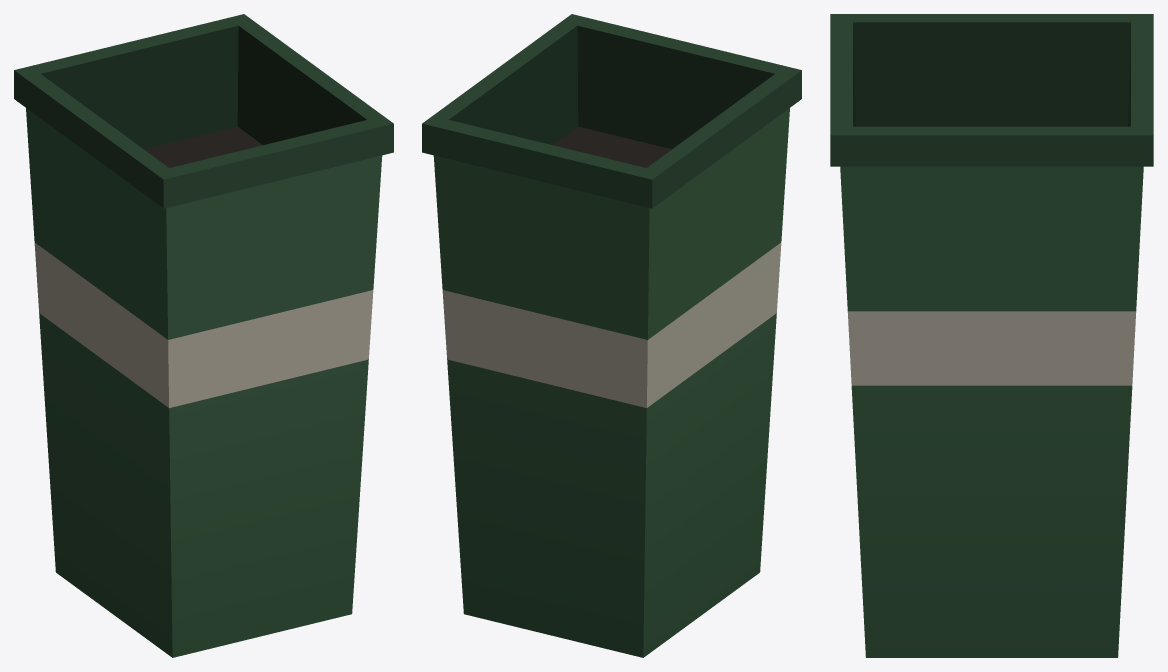
The model's file is bin.waste.green.glb.
The picture shows the model from 3 angles, left to right: view 1: azimuth 30°, elevation 25°; view 2: azimuth 150°, elevation 25°; view 3: azimuth 270°, elevation 25°; orthographic projection. The views are drawn at different scales.
Visible parts, largest first — view 1: bin_waste_green; view 2: bin_waste_green; view 3: bin_waste_green.
Boxes of the visible parts, x1,y1,x2,y2 form: bin_waste_green: (14,14,393,657); bin_waste_green: (422,14,801,657); bin_waste_green: (830,14,1153,657).
Size of what is drawn, in the model's own units: 0.291 by 0.6 by 0.328.
